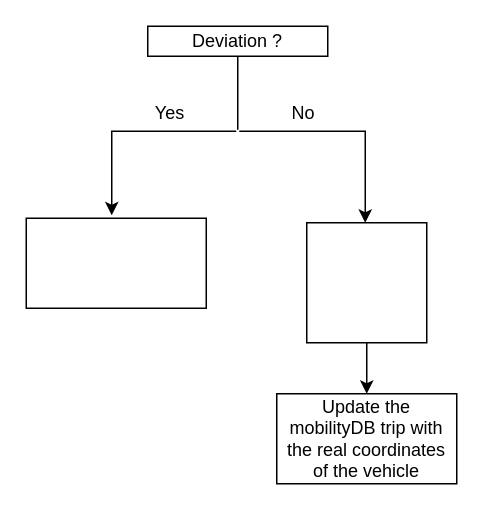
The diagram is 483 pixels wide and 510 high, and some of its shapes have lost their labels. The shapes that lost their labels are listed below. From the top down, each one's centre as x and y in pixels, then its label:
At point 115,262: "Update mobilityDB trip with the coordinates of the stop".
At point 366,282: "Interpolation process".
